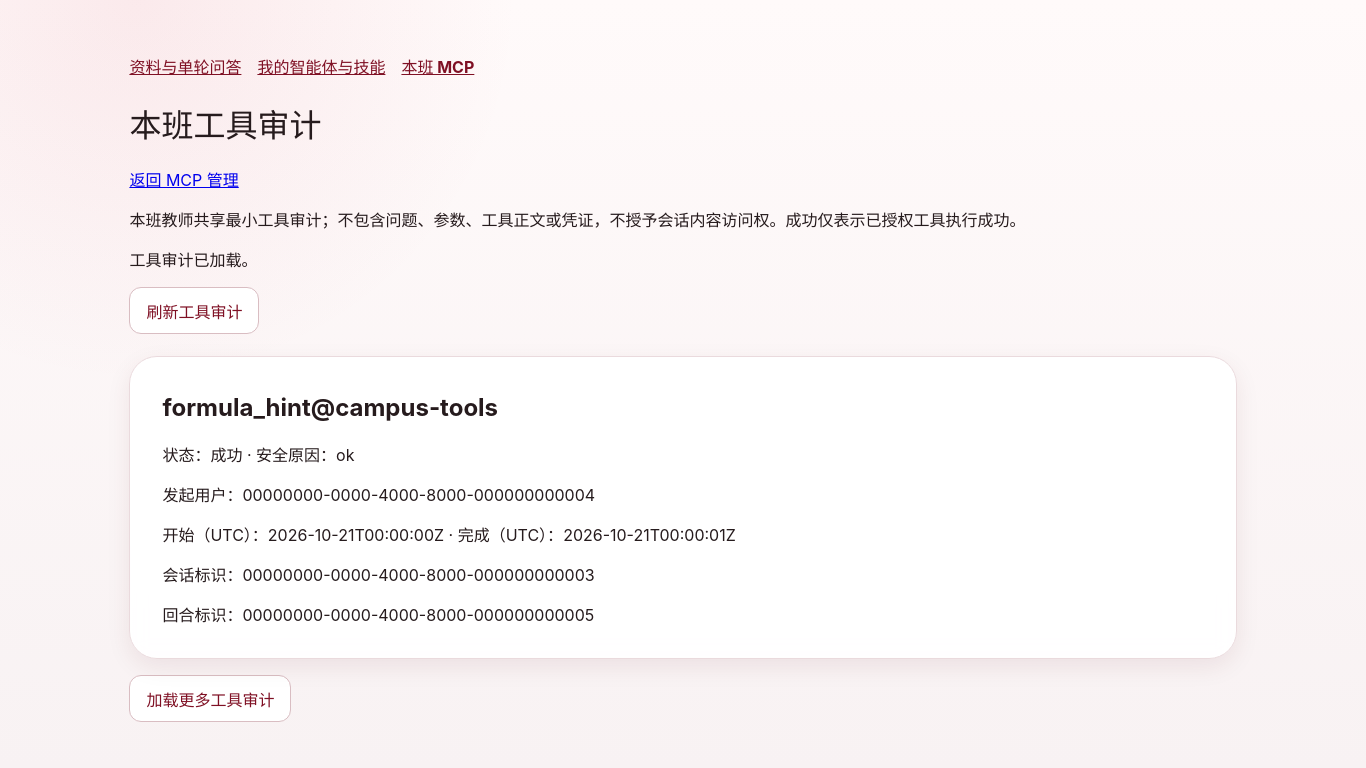
Scenario: minimal class audit UI › paginates actual audit contracts and displays only minimal fixed fields
Expected: the heading "formula_hint@campus-tools" is shown, [162,393,498,422]
Expected: the text "发起用户：00000000-0000-4000-8000-000000000004" is shown, [162,485,595,505]
Click the button "加载更多工具审计" at (210, 699), box [129,675,291,722]
(page scrolled)
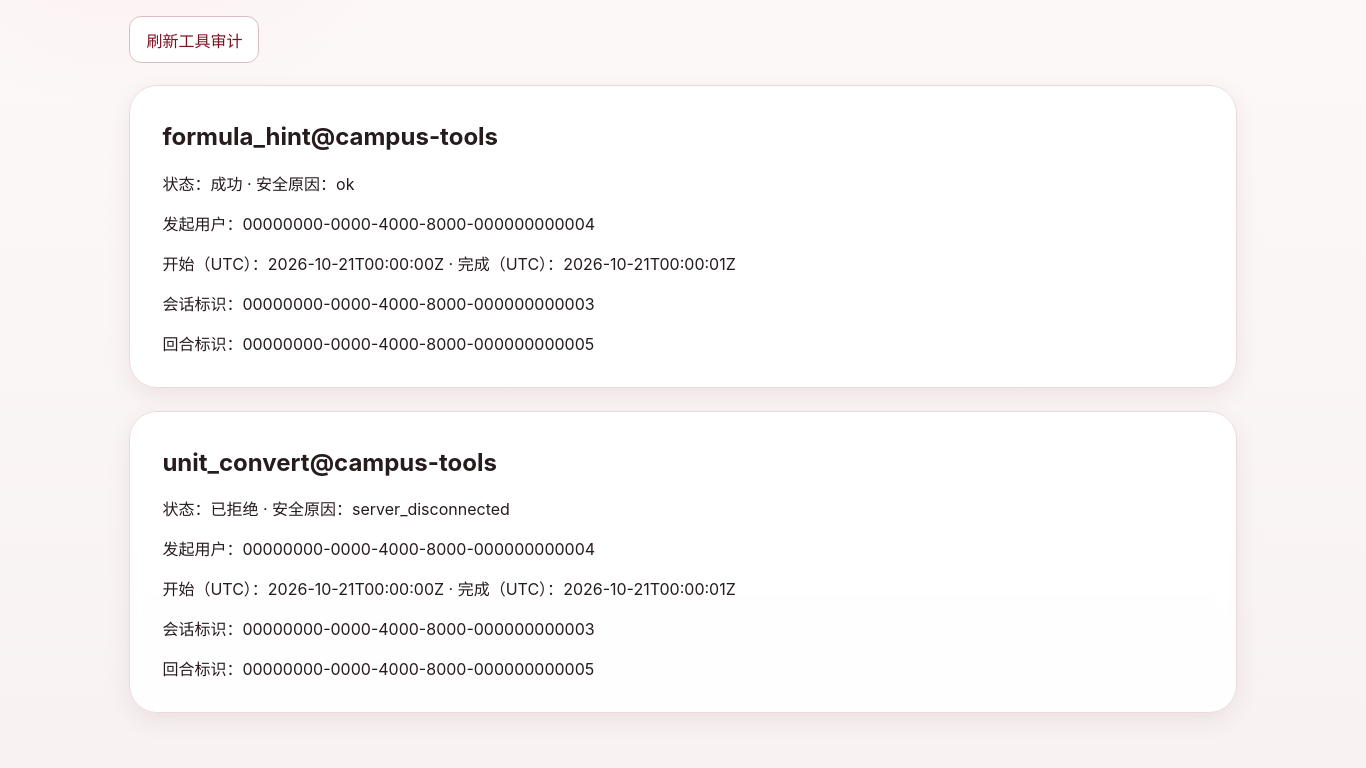
Expected: the heading "unit_convert@campus-tools" is shown, [162,448,497,476]
Expected: the text "状态：已拒绝 · 安全原因：server_disconnected" is shown, [162,500,510,520]
Expected: the button "加载更多工具审计" is gone
